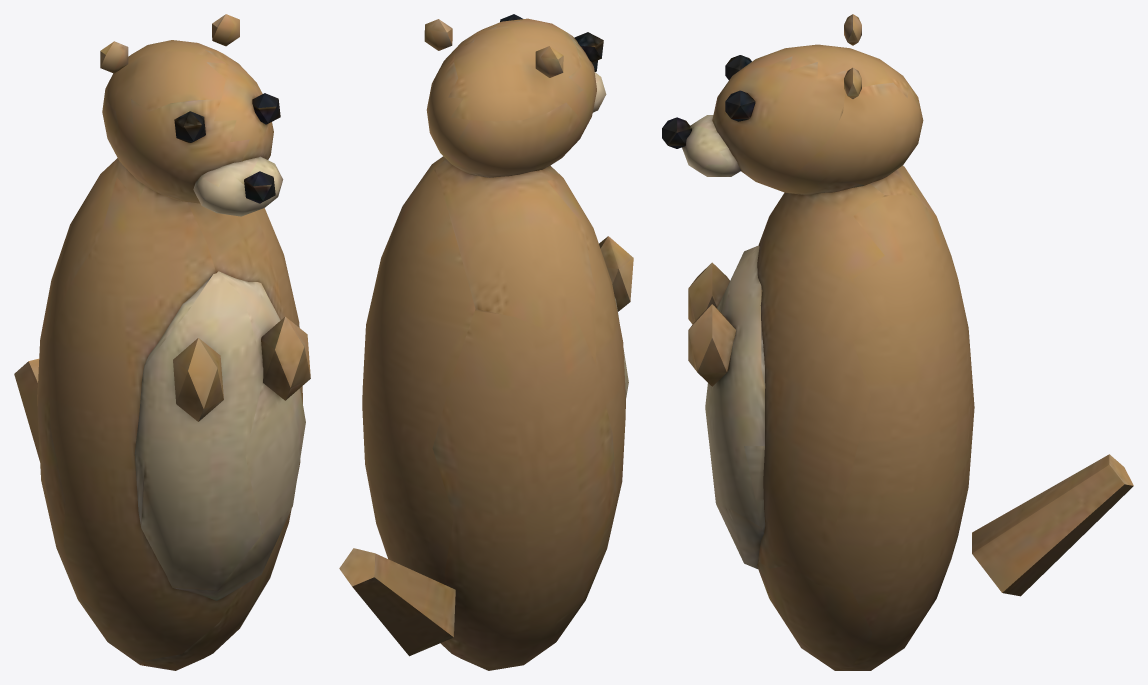
The model's file is perrito_pradera.glb.
3 renders of one model, left to right at view 1: azimuth 30°, elevation 25°; view 2: azimuth 150°, elevation 25°; view 3: azimuth 270°, elevation 25°, orthographic.
Visible parts, largest first — view 1: perrito_pradera; view 2: perrito_pradera; view 3: perrito_pradera.
Part boxes in pixels (left/top/right/bottom): perrito_pradera: left=14, top=14, right=310, bottom=670; perrito_pradera: left=339, top=14, right=633, bottom=670; perrito_pradera: left=662, top=14, right=1133, bottom=670.
Bounding box in the file's own units: 0.384 × 0.983 × 0.6705.
1 material, 1 textured.
